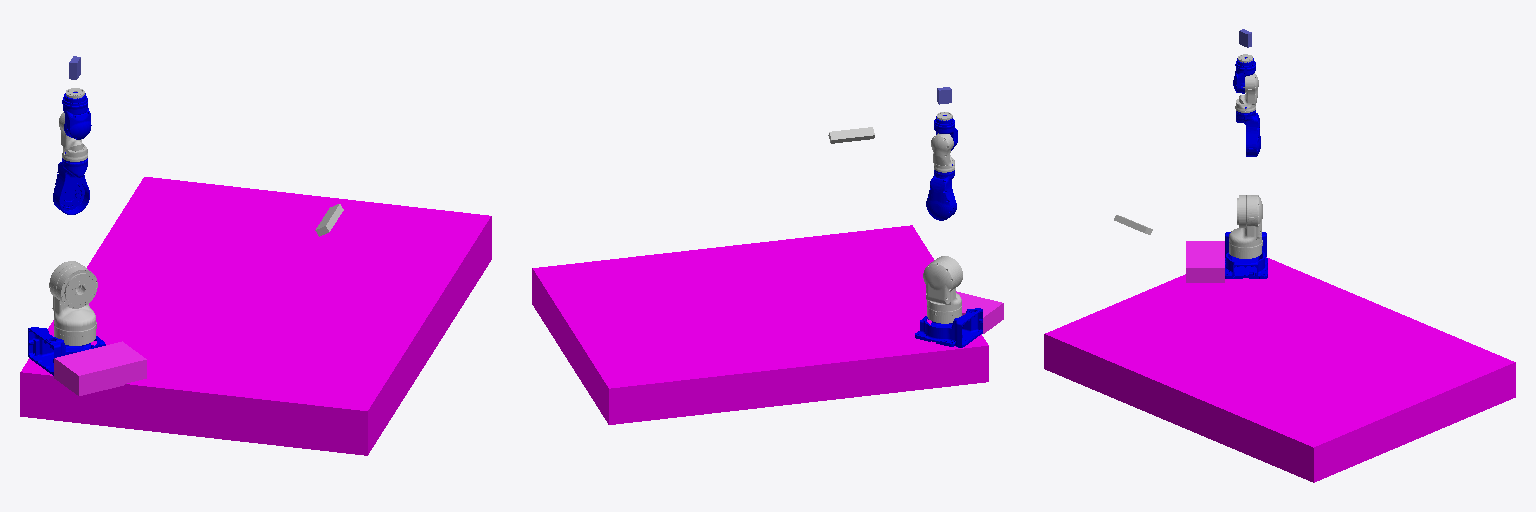
The robot description file, URDF, robot "freetail":
<?xml version="1.0" ?>
<!-- =================================================================================== -->
<!-- |    This document was autogenerated by xacro from freetail_vacuum_gripper_conf.xacro | -->
<!-- |    EDITING THIS FILE BY HAND IS NOT RECOMMENDED                                 | -->
<!-- =================================================================================== -->
<robot name="freetail" xmlns:xacro="http://ros.org/wiki/xacro">
  <!-- instantiating arm and gripper -->
  <link name="base_link">
    <visual>
      <geometry>
        <mesh filename="package://motoman_config/meshes/sia20d/visual/MOTOMAN_BASE.stl"/>
      </geometry>
      <material name="blue">
        <color rgba="0 0 1 1"/>
      </material>
    </visual>
    <collision>
      <geometry>
        <mesh filename="package://motoman_config/meshes/sia20d/collision/MOTOMAN_BASE.stl"/>
      </geometry>
      <material name="yellow">
        <color rgba="0 1 1 1"/>
      </material>
    </collision>
  </link>
  <link name="link_s">
    <visual>
      <origin rpy="0 0 3.1416" xyz="0 0 0"/>
      <geometry>
        <mesh filename="package://motoman_config/meshes/sia20d/visual/MOTOMAN_AXIS_S.stl"/>
      </geometry>
      <material name="silver">
        <color rgba="0.8 0.8 0.8 1"/>
      </material>
    </visual>
    <collision>
      <origin rpy="0 0 3.1416" xyz="0 0 0"/>
      <geometry>
        <mesh filename="package://motoman_config/meshes/sia20d/collision/MOTOMAN_AXIS_S.stl"/>
      </geometry>
      <material name="yellow"/>
    </collision>
  </link>
  <link name="link_l">
    <visual>
      <origin rpy="1.57 3.1416 3.1416" xyz="0 0 0"/>
      <geometry>
        <mesh filename="package://motoman_config/meshes/sia20d/visual/MOTOMAN_AXIS_L.stl"/>
      </geometry>
      <material name="blue"/>
    </visual>
    <collision>
      <origin rpy="1.57 3.1416 3.1416" xyz="0 0 0"/>
      <geometry>
        <mesh filename="package://motoman_config/meshes/sia20d/collision/MOTOMAN_AXIS_L.stl"/>
      </geometry>
      <material name="yellow"/>
    </collision>
  </link>
  <link name="link_e">
    <visual>
      <origin rpy="0 0 0" xyz="0 0 0"/>
      <geometry>
        <mesh filename="package://motoman_config/meshes/sia20d/visual/MOTOMAN_AXIS_E.stl"/>
      </geometry>
      <material name="silver"/>
    </visual>
    <collision>
      <origin rpy="0 0 0" xyz="0 0 0"/>
      <geometry>
        <mesh filename="package://motoman_config/meshes/sia20d/collision/MOTOMAN_AXIS_E.stl"/>
      </geometry>
      <material name="yellow"/>
    </collision>
  </link>
  <link name="link_u">
    <visual>
      <origin rpy="1.57 -3.1415 3.1416" xyz="0 0 0"/>
      <geometry>
        <mesh filename="package://motoman_config/meshes/sia20d/visual/MOTOMAN_AXIS_U.stl"/>
      </geometry>
      <material name="blue"/>
    </visual>
    <collision>
      <origin rpy="1.57 -3.1415 3.1416" xyz="0 0 0"/>
      <geometry>
        <mesh filename="package://motoman_config/meshes/sia20d/collision/MOTOMAN_AXIS_U.stl"/>
      </geometry>
      <material name="yellow"/>
    </collision>
  </link>
  <link name="link_r">
    <visual>
      <origin rpy="0 0 0" xyz="0 0 0"/>
      <geometry>
        <mesh filename="package://motoman_config/meshes/sia20d/visual/MOTOMAN_AXIS_R.stl"/>
      </geometry>
      <material name="silver"/>
    </visual>
    <collision>
      <origin rpy="0 0 0" xyz="0 0 0"/>
      <geometry>
        <mesh filename="package://motoman_config/meshes/sia20d/collision/MOTOMAN_AXIS_R.stl"/>
      </geometry>
      <material name="yellow"/>
    </collision>
  </link>
  <link name="link_b">
    <visual>
      <origin rpy="-1.57 0 0" xyz="0 0 0"/>
      <geometry>
        <mesh filename="package://motoman_config/meshes/sia20d/visual/MOTOMAN_AXIS_B.stl"/>
      </geometry>
      <material name="blue"/>
    </visual>
    <collision>
      <origin rpy="-1.57 0 0" xyz="0 0 0"/>
      <geometry>
        <mesh filename="package://motoman_config/meshes/sia20d/collision/MOTOMAN_AXIS_B.stl"/>
      </geometry>
      <material name="yellow"/>
    </collision>
  </link>
  <link name="link_t">
    <visual>
      <geometry>
        <mesh filename="package://motoman_config/meshes/sia20d/visual/MOTOMAN_AXIS_T.stl"/>
      </geometry>
      <material name="silver"/>
    </visual>
    <collision>
      <geometry>
        <mesh filename="package://motoman_config/meshes/sia20d/collision/MOTOMAN_AXIS_T.stl"/>
      </geometry>
      <material name="yellow"/>
    </collision>
  </link>
  <joint name="joint_s" type="revolute">
    <parent link="base_link"/>
    <child link="link_s"/>
    <origin rpy="0 0 0" xyz="0 0 0.41"/>
    <axis xyz="0 0 1"/>
    <limit effort="100" lower="-3.1416" upper="3.1416" velocity="2.26"/>
  </joint>
  <joint name="joint_l" type="revolute">
    <parent link="link_s"/>
    <child link="link_l"/>
    <origin rpy="0 0 0" xyz="0 0 0"/>
    <axis xyz="0 1 0"/>
    <limit effort="100" lower="-1.91" upper="1.91" velocity="2.26"/>
  </joint>
  <joint name="joint_e" type="revolute">
    <parent link="link_l"/>
    <child link="link_e"/>
    <origin rpy="0 0 0" xyz="0 0 0.49"/>
    <axis xyz="0 0 1"/>
    <limit effort="100" lower="-2.96" upper="2.96" velocity="2.96"/>
  </joint>
  <joint name="joint_u" type="revolute">
    <parent link="link_e"/>
    <child link="link_u"/>
    <origin rpy="0 0 0" xyz="0 0 0"/>
    <axis xyz="0 -1 0"/>
    <limit effort="100" lower="-2.26" upper="2.26" velocity="2.96"/>
  </joint>
  <joint name="joint_r" type="revolute">
    <parent link="link_u"/>
    <child link="link_r"/>
    <origin rpy="0 0 0" xyz="0 0 0.420"/>
    <axis xyz="0 0 -1"/>
    <limit effort="100" lower="-3.1416" upper="3.1416" velocity="3.48"/>
  </joint>
  <joint name="joint_b" type="revolute">
    <parent link="link_r"/>
    <child link="link_b"/>
    <origin rpy="0 0 0" xyz="0 0 0"/>
    <axis xyz="0 -1 0"/>
    <limit effort="100" lower="-1.91" upper="1.91" velocity="3.48"/>
  </joint>
  <joint name="joint_t" type="revolute">
    <parent link="link_b"/>
    <child link="link_t"/>
    <origin rpy="0 0 0" xyz="0 0 0.18"/>
    <axis xyz="0 0 -1"/>
    <limit effort="100" lower="-3.1416" upper="3.1416" velocity="6.97"/>
  </joint>
  <link name="palm">
    <visual>
      <origin rpy="0 0 0" xyz="0 0.019 -0.0473"/>
      <geometry>
        <box size="0.040 0.080 0.0946"/>
      </geometry>
      <material name="another_blue1">
        <color rgba="0.40 0.40 0.80 1"/>
      </material>
    </visual>
    <collision>
      <origin rpy="0 0 0" xyz="0 0.019 -0.0473"/>
      <geometry>
        <box size="0.040 0.080 0.0946"/>
      </geometry>
      <material name="another_blue2">
        <color rgba="0.38 0.54 0.83 1"/>
      </material>
    </collision>
  </link>
  <!-- adding coupling link -->
  <link name="coupler">
    <visual>
      <geometry>
        <mesh filename="package://longhorn/meshes/coupler/visual/COUPLER.stl"/>
      </geometry>
      <material name="orange">
        <color rgba="1 0.5 0 1"/>
      </material>
    </visual>
    <collision>
      <geometry>
        <mesh filename="package://longhorn/meshes/coupler/collision/COUPLER.stl"/>
      </geometry>
      <material name="yellow">
        <color rgba="0 1 1 1"/>
      </material>
    </collision>
  </link>
  <!-- adding joints -->
  <joint name="tool-coupler" type="fixed">
    <parent link="link_t"/>
    <child link="coupler"/>
    <origin rpy="1.570 0 1.57" xyz="0 0 0"/>
  </joint>
  <joint name="coupler-hand" type="fixed">
    <parent link="coupler"/>
    <child link="palm"/>
    <origin rpy="-1.570 -2.36 0" xyz="-0.013 0.182 -0.013"/>
  </joint>
  <!-- environment list -->
  <link name="table">
    <visual>
      <geometry>
        <box size="1.83 2.44 0.25"/>
      </geometry>
      <material name="">
        <color rgba="1 0 1 1"/>
      </material>
    </visual>
    <collision>
      <geometry>
        <box size="1.83 2.44 0.25"/>
      </geometry>
      <material name="">
        <color rgba="1 0 1 1"/>
      </material>
    </collision>
  </link>
  <link name="table_keepout_1">
    <collision>
      <geometry>
        <box size="2.08 0.25 2"/>
      </geometry>
      <material name="">
        <color rgba="1 0.2 1 0.1"/>
      </material>
    </collision>
  </link>
  <link name="table_keepout_2">
    <collision>
      <geometry>
        <box size="0.25 2.69 2"/>
      </geometry>
      <material name="">
        <color rgba="1 0.2 1 0.1"/>
      </material>
    </collision>
  </link>
  <link name="abb_keepout">
    <collision>
      <geometry>
        <box size="0.915 1.524 2"/>
      </geometry>
      <material name="">
        <color rgba="1 0.2 1 0.1"/>
      </material>
    </collision>
  </link>
  <link name="power_supply">
    <visual>
      <geometry>
        <box size="0.400 0.250 0.115"/>
      </geometry>
      <material name="">
        <color rgba="1 0.2 1 0.1"/>
      </material>
    </visual>
    <collision>
      <geometry>
        <box size="0.400 0.250 0.115"/>
      </geometry>
      <material name="">
        <color rgba="1 0.2 1 0.1"/>
      </material>
    </collision>
  </link>
  <link name="kinect_keepout">
    <collision>
      <geometry>
        <box size="0.25 2.69 2"/>
      </geometry>
      <material name="">
        <color rgba="1 0.2 1 0.1"/>
      </material>
    </collision>
  </link>
  <link name="kinect">
    <collision>
      <geometry>
        <box size="0.36 0.28 0.22"/>
      </geometry>
      <material name="">
        <color rgba="1 0.8 1 0.1"/>
      </material>
    </collision>
  </link>
  <joint name="base-table" type="fixed">
    <parent link="base_link"/>
    <child link="table"/>
    <origin rpy="0 0 -0.785" xyz="1.19 0.22 -0.125"/>
  </joint>
  <joint name="base-kinect" type="fixed">
    <parent link="base_link"/>
    <child link="kinect"/>
    <origin rpy="0 0.5235 2.356" xyz="1.08 -0.72 0.82"/>
  </joint>
  <joint name="table-keepout_1" type="fixed">
    <parent link="table"/>
    <child link="table_keepout_1"/>
    <origin rpy="0 0 0" xyz="0 -1.34 1"/>
  </joint>
  <joint name="table-keepout_2" type="fixed">
    <parent link="table"/>
    <child link="table_keepout_2"/>
    <origin rpy="0 0 0" xyz="-1.025 0 1"/>
  </joint>
  <joint name="abb-keepout" type="fixed">
    <parent link="table"/>
    <child link="abb_keepout"/>
    <origin rpy="0 0 0" xyz="0.475 0.458 1.125"/>
  </joint>
  <joint name="base-power_supply" type="fixed">
    <parent link="base_link"/>
    <child link="power_supply"/>
    <origin rpy="0 0 0" xyz="0 -0.260 0.050"/>
  </joint>
  <joint name="table-kinect" type="fixed">
    <parent link="table"/>
    <child link="kinect_keepout"/>
    <origin rpy="0 0 0" xyz=".5 0 1"/>
  </joint>
  <!-- end environment list -->
  <!-- kinect -->
  <joint name="kinect_frame_joint" type="fixed">
    <parent link="kinect"/>
    <child link="kinect_frame"/>
    <origin rpy="0 0 0" xyz="0 0 0"/>
  </joint>
  <link name="kinect_frame">
    <visual>
      <origin rpy="0 0 0" xyz="0 0 0"/>
      <geometry>
        <box size="0.064 0.28 0.04"/>
      </geometry>
      <material name="silver"/>
    </visual>
    <collision>
      <origin rpy="0 0 0" xyz="0 0 0"/>
      <geometry>
        <box size="0.064 0.28 0.04"/>
      </geometry>
    </collision>
  </link>
  <joint name="kinect_ir_joint" type="fixed">
    <parent link="kinect_frame"/>
    <child link="kinect_ir_link"/>
    <origin rpy="0 0 0" xyz="0 0 0"/>
  </joint>
  <link name="kinect_ir_link">
    <visual>
      <origin rpy="0 0 0" xyz="0 0 0"/>
      <geometry>
        <sphere radius="0.0005"/>
      </geometry>
    </visual>
  </link>
  <joint name="kinect_ir_optical_frame_joint" type="fixed">
    <parent link="kinect_ir_link"/>
    <child link="kinect_ir_optical_frame"/>
    <origin rpy="-1.57 0 -1.57" xyz="0 0 0"/>
  </joint>
  <link name="kinect_ir_optical_frame"/>
  <joint name="kinect_rgb_joint" type="fixed">
    <parent link="kinect_ir_link"/>
    <child link="kinect_rgb_link"/>
    <origin rpy="0 0 0" xyz="0 -0.03 0"/>
  </joint>
  <link name="kinect_rgb_link">
    <visual>
      <origin rpy="0 0 0" xyz="0 0 0"/>
      <geometry>
        <sphere radius="0.0005"/>
      </geometry>
    </visual>
  </link>
  <joint name="kinect_rgb_optical_frame_joint" type="fixed">
    <parent link="kinect_rgb_link"/>
    <child link="kinect_rgb_optical_frame"/>
    <origin rpy="-1.57 0 -1.57" xyz="0 0 0"/>
  </joint>
  <link name="kinect_rgb_optical_frame"/>
  <!-- end kinect -->
</robot>

--- Facts derived from the render (not from the file) ---
Views: 3 orthographic renders of the robot side by side, from view 1: azimuth 30°, elevation 25°; view 2: azimuth 150°, elevation 25°; view 3: azimuth 270°, elevation 25°.
Model freetail with 22 links and 21 joints (7 revolute, 14 fixed), rooted at base_link, posed all joints at 0.
Links seen in each view (by area): view 1: table, power_supply, link_s, link_u, base_link, link_b, link_r; view 2: table, link_s, base_link, link_u, power_supply, link_r, kinect_frame; view 3: table, link_s, power_supply, base_link, link_u, link_r.
Boxes of the visible links, x1,y1,x2,y2 form: table: (20,177,491,455); power_supply: (54,341,146,395); link_s: (49,261,97,345); link_u: (53,152,89,214); base_link: (28,327,105,375); link_b: (62,92,91,139); link_r: (59,112,87,161); table: (532,225,988,424); link_s: (923,256,962,323); base_link: (915,308,982,347); link_u: (926,164,956,220); power_supply: (956,291,1003,333); link_r: (931,133,954,172); kinect_frame: (828,127,874,143); table: (1044,257,1515,482); link_s: (1229,195,1262,258); power_supply: (1186,241,1224,282); base_link: (1225,232,1267,278); link_u: (1236,107,1260,156); link_r: (1235,73,1258,112).
Size in the robot's own frame: 3.02 by 3.02 by 1.93 metres.
Meshes: 9 distinct files referenced, 6 mesh visuals loaded (6 binary STL); not drawn: 3 (reference not matched to a file when rendering).